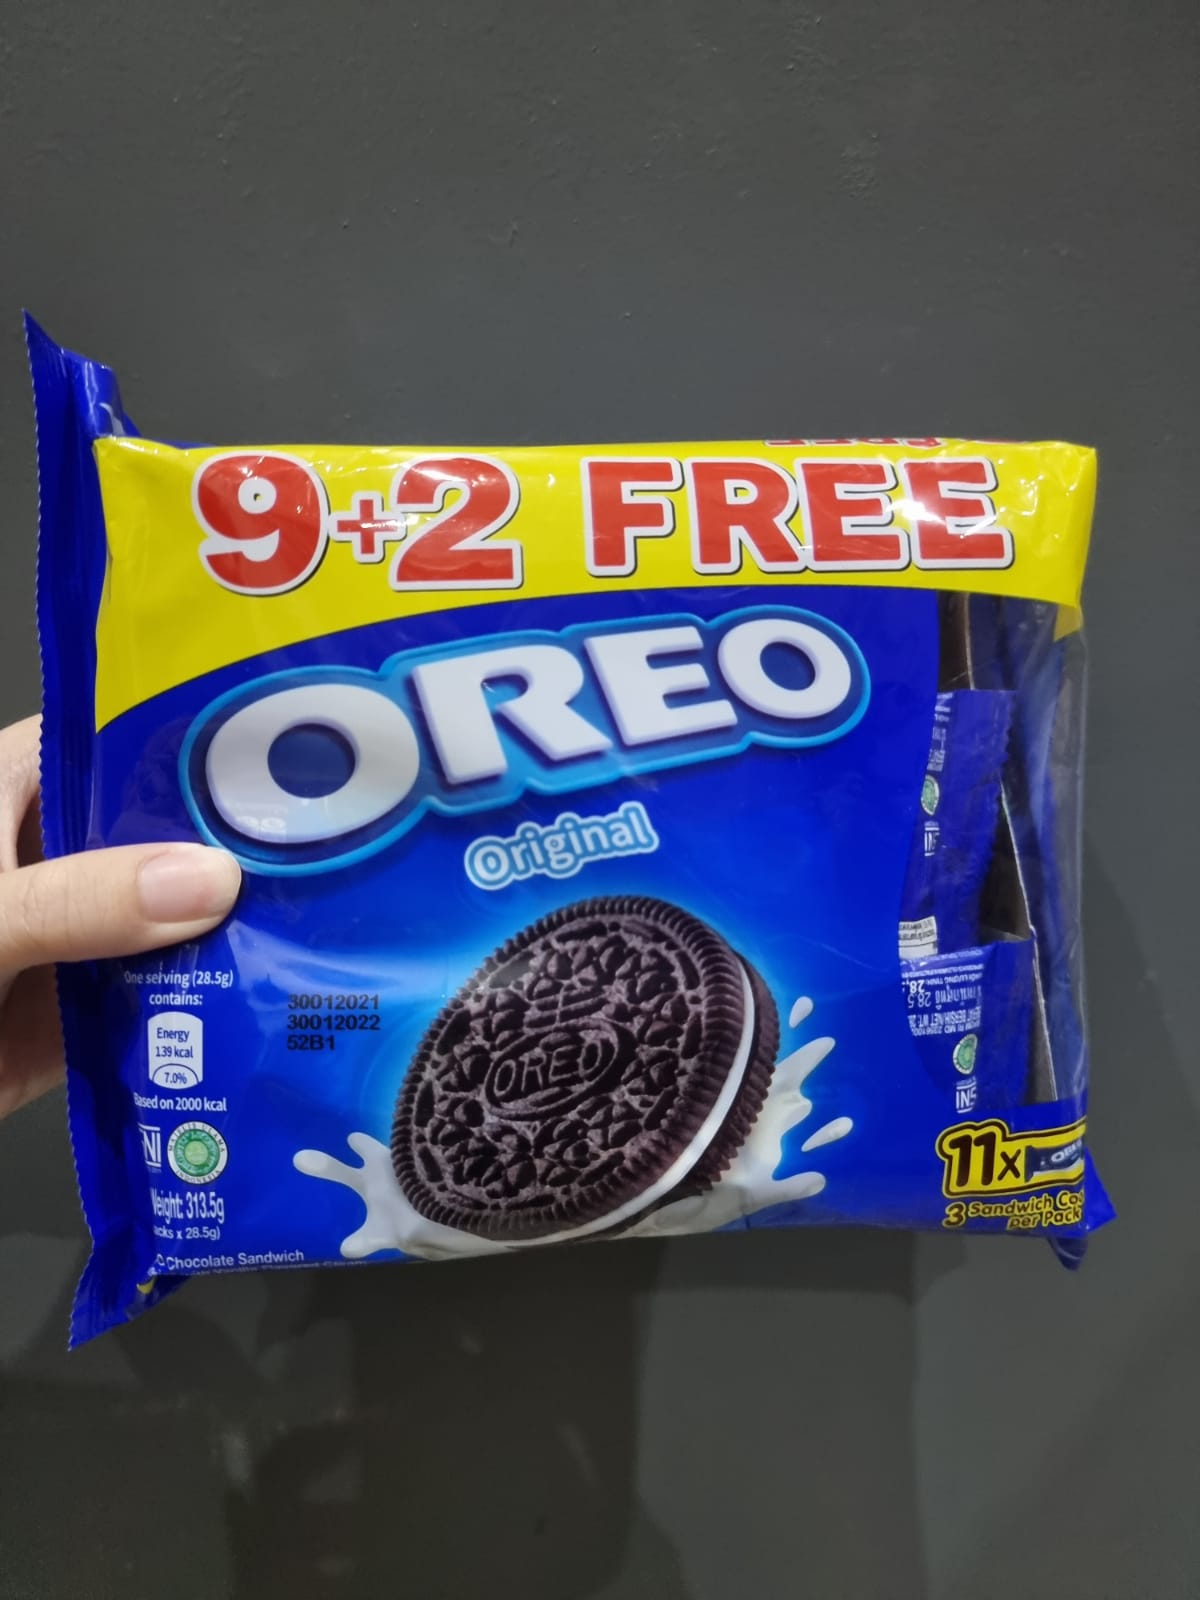Biscuits: (108, 454, 1088, 1235)
